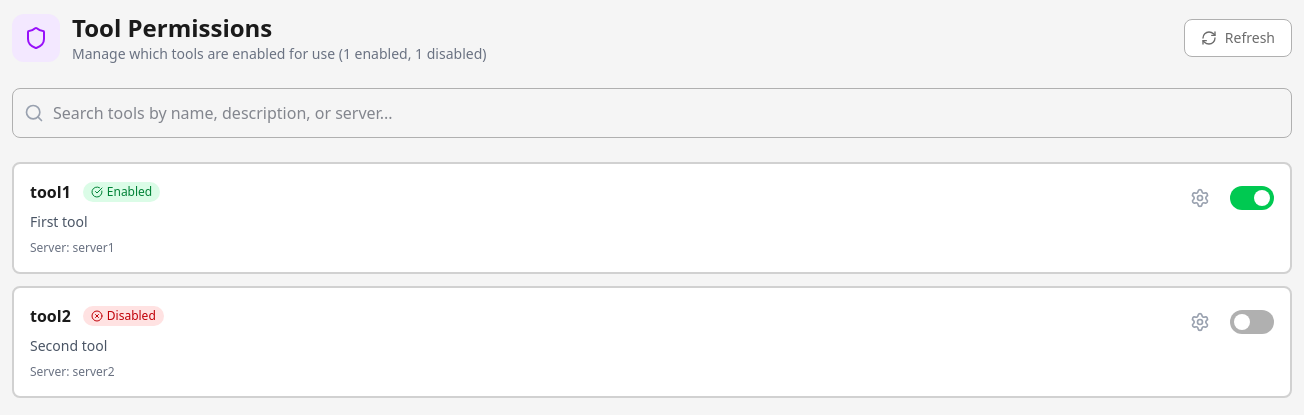
Test: ToolPermissionsManager › should filter tools by search query
Expected: the element with test id "tool-card-tool1" is shown, [12,162,1292,274]
Expected: the element with test id "tool-card-tool2" is shown, [12,286,1292,398]
In the field with test id "tool-search-input": [652, 113] box [12,88,1292,138], type "First"
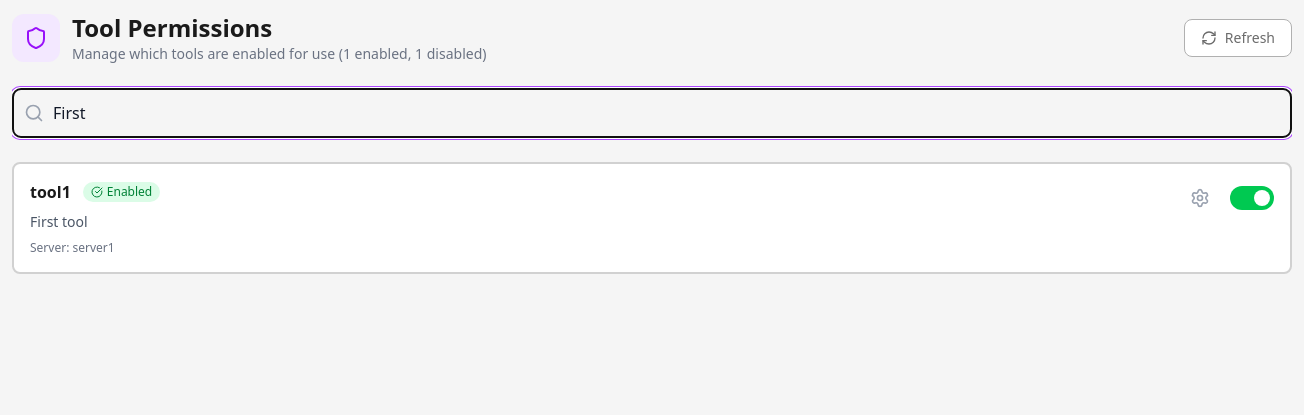
Expected: the element with test id "tool-card-tool1" is shown, [12,162,1292,274]
Expected: the element with test id "tool-card-tool2" is gone
